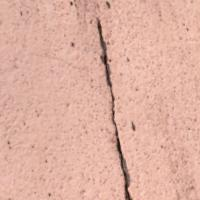crack: (87, 15, 138, 199)
